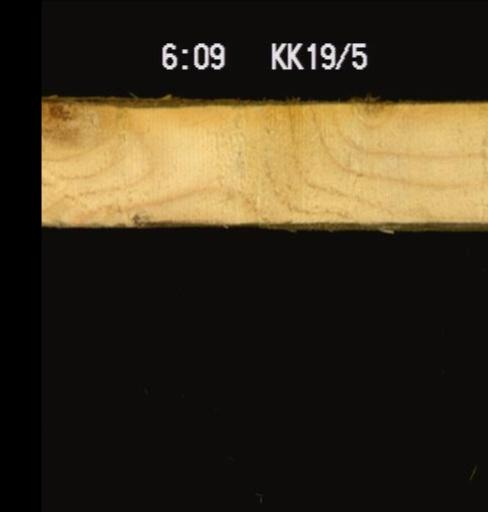edge_knot: (349, 98, 397, 130), (41, 98, 81, 128)
